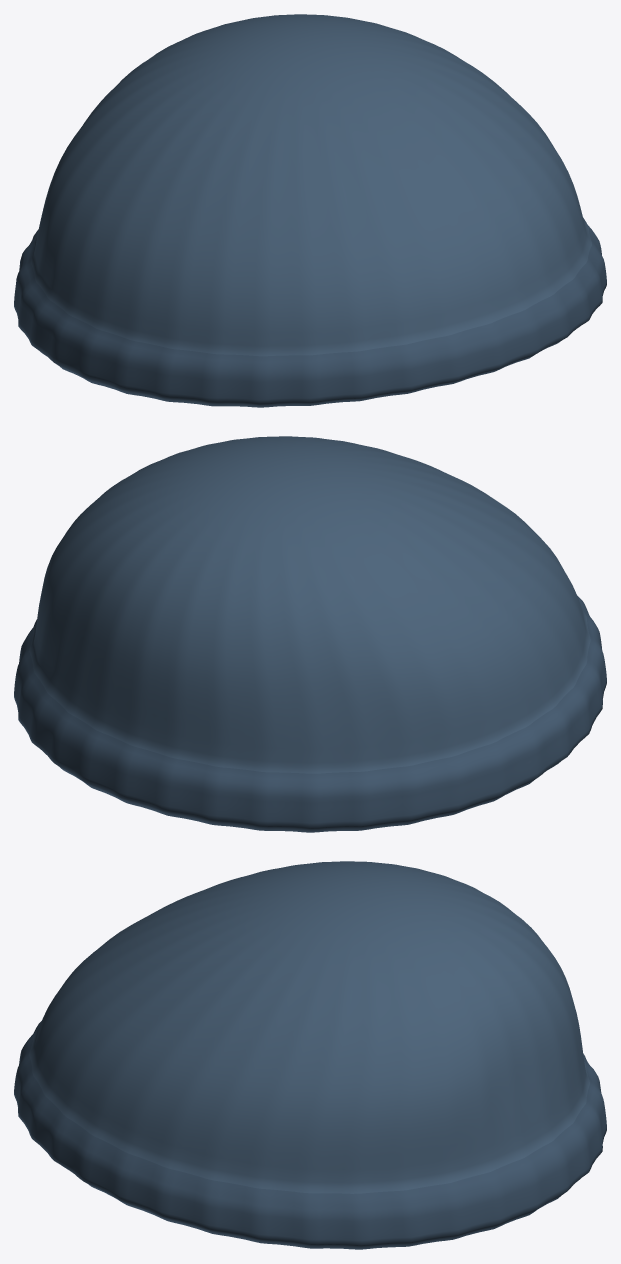
The model's file is knit-beanie.glb.
3 views of the same model, one above another, from view 1: azimuth 30°, elevation 25°; view 2: azimuth 150°, elevation 25°; view 3: azimuth 270°, elevation 25° (orthographic).
Parts seen in each view (by area): view 1: Beanie / soft rib knit; view 2: Beanie / soft rib knit; view 3: Beanie / soft rib knit.
Boxes of the visible parts, <box> form: Beanie / soft rib knit: <box>14,14,606,407</box>; Beanie / soft rib knit: <box>14,436,606,832</box>; Beanie / soft rib knit: <box>14,861,606,1249</box>.
Size of the model in its own units: 0.856 by 0.4059 by 0.856.
